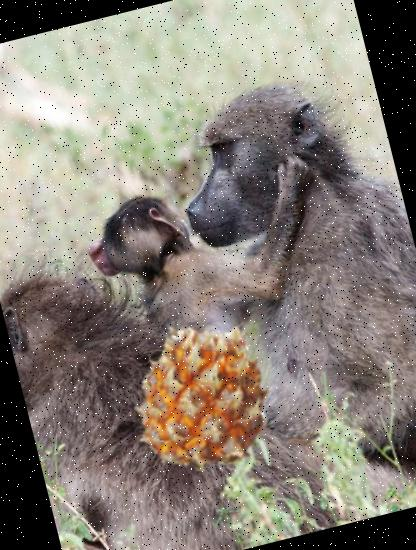Pineapple: (112, 307, 294, 488)
